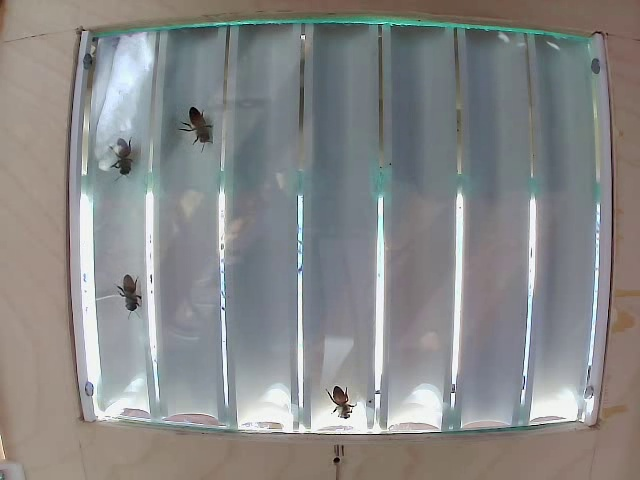bee: (101, 133, 146, 185), (325, 377, 355, 427), (181, 102, 210, 152), (114, 277, 151, 310)
